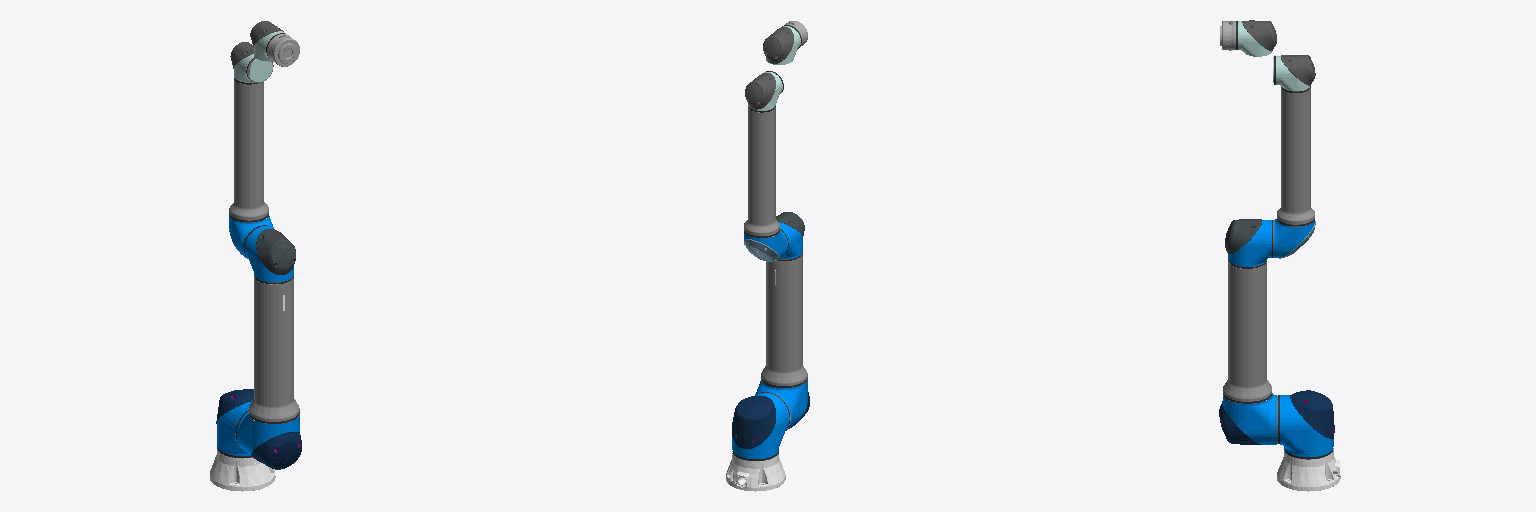
URDF robot description (rb10_1300e):
<?xml version="1.0" ?>
<!-- =================================================================================== -->
<!-- |    This document was autogenerated by xacro from rb10_1300e.urdf.xacro          | -->
<!-- |    EDITING THIS FILE BY HAND IS NOT RECOMMENDED                                 | -->
<!-- =================================================================================== -->
<robot name="rb10_1300e">
  <link name="link0">
    <visual>
      <geometry>
        <mesh filename="meshes/rb10_1300e/visual/link0.dae"/>
      </geometry>
    </visual>
    <collision>
      <geometry>
        <mesh filename="meshes/rb10_1300e/collision/link0.stl"/>
      </geometry>
    </collision>
  </link>
  <link name="link1">
    <visual>
      <geometry>
        <mesh filename="meshes/rb10_1300e/visual/link1.dae"/>
      </geometry>
    </visual>
    <collision>
      <geometry>
        <mesh filename="meshes/rb10_1300e/collision/link1.stl"/>
      </geometry>
    </collision>
    <inertial>
      <origin rpy="0 0 0" xyz="0.000021 -0.007855 -0.042537"/>
      <mass value="8.366"/>
      <inertia ixx="0.027403652" ixy="-5.926e-06" ixz="-1.0119e-05" iyy="0.027770573" iyz="0.003030512" izz="0.026140211"/>
    </inertial>
  </link>
  <link name="link2">
    <visual>
      <geometry>
        <mesh filename="meshes/rb10_1300e/visual/link2.dae"/>
      </geometry>
    </visual>
    <collision>
      <geometry>
        <mesh filename="meshes/rb10_1300e/collision/link2.stl"/>
      </geometry>
    </collision>
    <inertial>
      <origin rpy="0 0 0" xyz="-0.000013 -0.155462 0.225241"/>
      <mass value="15.61"/>
      <inertia ixx="1.140650644" ixy="-1.3042e-05" ixz="-6.7084e-05" iyy="1.134398623" iyz="0.024507884" izz="0.050849068"/>
    </inertial>
  </link>
  <link name="link3">
    <visual>
      <geometry>
        <mesh filename="meshes/rb10_1300e/visual/link3.dae"/>
      </geometry>
    </visual>
    <collision>
      <geometry>
        <mesh filename="meshes/rb10_1300e/collision/link3.stl"/>
      </geometry>
    </collision>
    <inertial>
      <origin rpy="0 0 0" xyz="-0.000048 -0.013885 0.325013"/>
      <mass value="5.69"/>
      <inertia ixx="0.312033029" ixy="9.298e-06" ixz="1.169e-05" iyy="0.311287646" iyz="0.005331552" izz="0.011397824"/>
    </inertial>
  </link>
  <link name="link4">
    <visual>
      <geometry>
        <mesh filename="meshes/rb10_1300e/visual/link4.dae"/>
      </geometry>
    </visual>
    <collision>
      <geometry>
        <mesh filename="meshes/rb10_1300e/collision/link4.stl"/>
      </geometry>
    </collision>
    <inertial>
      <origin rpy="0 0 0" xyz="0.000093 -0.113949 0.026461"/>
      <mass value="2.062"/>
      <inertia ixx="0.0027111" ixy="-8.022e-06" ixz="1.1208e-05" iyy="0.002715407" iyz="0.000144243" izz="0.002157043"/>
    </inertial>
  </link>
  <link name="link5">
    <visual>
      <geometry>
        <mesh filename="meshes/rb10_1300e/visual/link5.dae"/>
      </geometry>
    </visual>
    <collision>
      <geometry>
        <mesh filename="meshes/rb10_1300e/collision/link5.stl"/>
      </geometry>
    </collision>
    <inertial>
      <origin rpy="0 0 0" xyz="-0.000093 -0.026434 -0.003233"/>
      <mass value="2.061"/>
      <inertia ixx="0.002706437" ixy="1.1205e-05" ixz="-8.016e-06" iyy="0.002153592" iyz="0.000141528" izz="0.002712272"/>
    </inertial>
  </link>
  <link name="link6">
    <visual>
      <geometry>
        <mesh filename="meshes/rb10_1300e/visual/link6.dae"/>
      </geometry>
    </visual>
    <collision>
      <geometry>
        <mesh filename="meshes/rb10_1300e/collision/link6.stl"/>
      </geometry>
    </collision>
    <inertial>
      <origin rpy="0 0 0" xyz="-0.000210 -0.092540 -0.000292"/>
      <mass value="0.406"/>
      <inertia ixx="0.000345314" ixy="5.73e-07" ixz="6.61e-07" iyy="0.000532873" iyz="-5.4e-08" izz="0.000340021"/>
    </inertial>
  </link>
  <link name="tcp"/>
  <joint name="base" type="revolute">
    <origin rpy="0 0 0" xyz="0 0 0"/>
    <parent link="link0"/>
    <child link="link1"/>
    <axis xyz="0 0 1"/>
    <limit effort="10" lower="-3.14" upper="3.14" velocity="3.14"/>
  </joint>
  <joint name="shoulder" type="revolute">
    <origin rpy="0 0 0" xyz="0 0 0.197"/>
    <parent link="link1"/>
    <child link="link2"/>
    <axis xyz="0 1 0"/>
    <limit effort="10" lower="-3.14" upper="3.14" velocity="3.14"/>
  </joint>
  <joint name="elbow" type="revolute">
    <origin rpy="0 0 0" xyz="0 -0.1875 0.6127"/>
    <parent link="link2"/>
    <child link="link3"/>
    <axis xyz="0 1 0"/>
    <limit effort="10" lower="-3.14" upper="3.14" velocity="3.14"/>
  </joint>
  <joint name="wrist1" type="revolute">
    <origin rpy="0 0 0" xyz="0 0.1484 0.57015"/>
    <parent link="link3"/>
    <child link="link4"/>
    <axis xyz="0 1 0"/>
    <limit effort="10" lower="-3.14" upper="3.14" velocity="3.14"/>
  </joint>
  <joint name="wrist2" type="revolute">
    <origin rpy="0 0 0" xyz="0 -0.11715 0"/>
    <parent link="link4"/>
    <child link="link5"/>
    <axis xyz="0 0 1"/>
    <limit effort="10" lower="-3.14" upper="3.14" velocity="3.14"/>
  </joint>
  <joint name="wrist3" type="revolute">
    <origin rpy="0 0 0" xyz="0 0 0.11715"/>
    <parent link="link5"/>
    <child link="link6"/>
    <axis xyz="0 1 0"/>
    <limit effort="10" lower="-3.14" upper="3.14" velocity="3.14"/>
  </joint>
  <joint name="tcp_joint" type="fixed">
    <origin rpy="0 0 0" xyz="0 -0.1153 0"/>
    <parent link="link6"/>
    <child link="tcp"/>
  </joint>
  <ros2_control name="RBPodoHardwareInterface" type="system">
    <hardware>
      <plugin>mock_components/GenericSystem</plugin>
      <param name="mock_sensor_commands">False</param>
      <param name="state_following_offset">0.0</param>
    </hardware>
    <joint name="base">
      <param name="initial_position">0.0</param>
      <param name="torque_constant">1</param>
      <command_interface name="effort"/>
      <command_interface name="velocity"/>
      <command_interface name="position"/>
      <state_interface name="position"/>
      <state_interface name="effort"/>
    </joint>
    <joint name="shoulder">
      <param name="initial_position">0.0</param>
      <param name="torque_constant">1</param>
      <command_interface name="effort"/>
      <command_interface name="velocity"/>
      <command_interface name="position"/>
      <state_interface name="position"/>
      <state_interface name="effort"/>
    </joint>
    <joint name="elbow">
      <param name="initial_position">0.0</param>
      <param name="torque_constant">1</param>
      <command_interface name="effort"/>
      <command_interface name="velocity"/>
      <command_interface name="position"/>
      <state_interface name="position"/>
      <state_interface name="effort"/>
    </joint>
    <joint name="wrist1">
      <param name="initial_position">0.0</param>
      <param name="torque_constant">1</param>
      <command_interface name="effort"/>
      <command_interface name="velocity"/>
      <command_interface name="position"/>
      <state_interface name="position"/>
      <state_interface name="effort"/>
    </joint>
    <joint name="wrist2">
      <param name="initial_position">0.0</param>
      <param name="torque_constant">1</param>
      <command_interface name="effort"/>
      <command_interface name="velocity"/>
      <command_interface name="position"/>
      <state_interface name="position"/>
      <state_interface name="effort"/>
    </joint>
    <joint name="wrist3">
      <param name="initial_position">0.0</param>
      <param name="torque_constant">1</param>
      <command_interface name="effort"/>
      <command_interface name="velocity"/>
      <command_interface name="position"/>
      <state_interface name="position"/>
      <state_interface name="effort"/>
    </joint>
  </ros2_control>
</robot>

--- Facts derived from the render (not from the file) ---
Views: 3 orthographic renders of the robot side by side, from view 1: azimuth 30°, elevation 25°; view 2: azimuth 150°, elevation 25°; view 3: azimuth 270°, elevation 25°.
Robot: rb10_1300e — 8 links, 7 joints (6 revolute, 1 fixed); root link link0; default pose: all joints at 0.
Visible links, largest first — view 1: link2, link3, link0, link1, link6, link5; view 2: link2, link3, link1, link0, link5; view 3: link2, link3, link1, link0, link5.
Link boxes in pixels (x1,y1,x2,y2): link2: (235,225,301,469); link3: (229,42,273,258); link0: (210,450,275,491); link1: (216,389,253,458); link6: (267,34,299,66); link5: (250,21,285,61); link2: (755,212,809,430); link3: (744,71,787,261); link1: (732,393,788,460); link0: (726,453,785,491); link5: (763,25,801,64); link2: (1219,219,1279,444); link3: (1273,55,1315,258); link1: (1280,390,1334,459); link0: (1277,449,1340,491); link5: (1236,20,1276,56).
Size in the robot's own frame: 0.196 by 0.3727 by 1.54 metres.
6 mesh visuals loaded from 7 distinct referenced files (6 Collada DAE); not drawn: 1 (reference not matched to a file when rendering).
